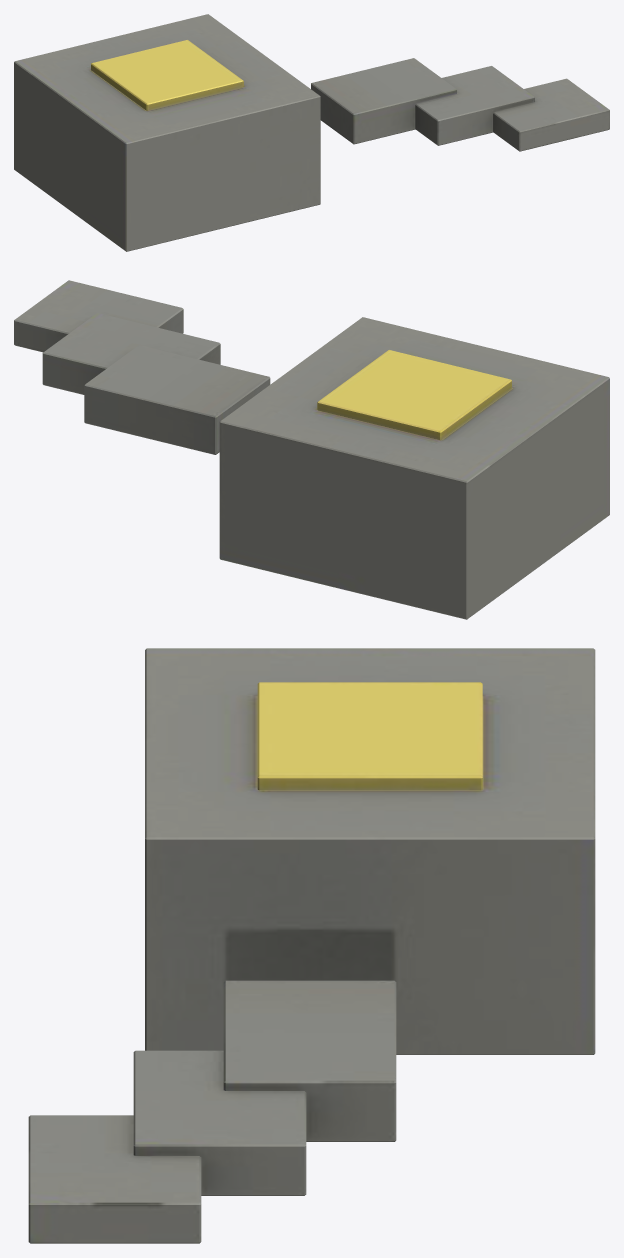
Rendered from IT_duct_tape.glb.
3 renders of one model, top to bottom at view 1: azimuth 30°, elevation 25°; view 2: azimuth 150°, elevation 25°; view 3: azimuth 270°, elevation 25°, orthographic. The views are drawn at different scales.
Visible parts, largest first — view 1: IT_duct_tape; view 2: IT_duct_tape; view 3: IT_duct_tape.
Boxes of the visible parts, x1=… form: IT_duct_tape: x1=14, y1=14, x2=609, y2=251; IT_duct_tape: x1=14, y1=280, x2=609, y2=619; IT_duct_tape: x1=28, y1=648, x2=595, y2=1243.
Bounding box in the file's own units: 0.7 × 0.18 × 0.3775.
Materials: 1 (1 with a texture image).
